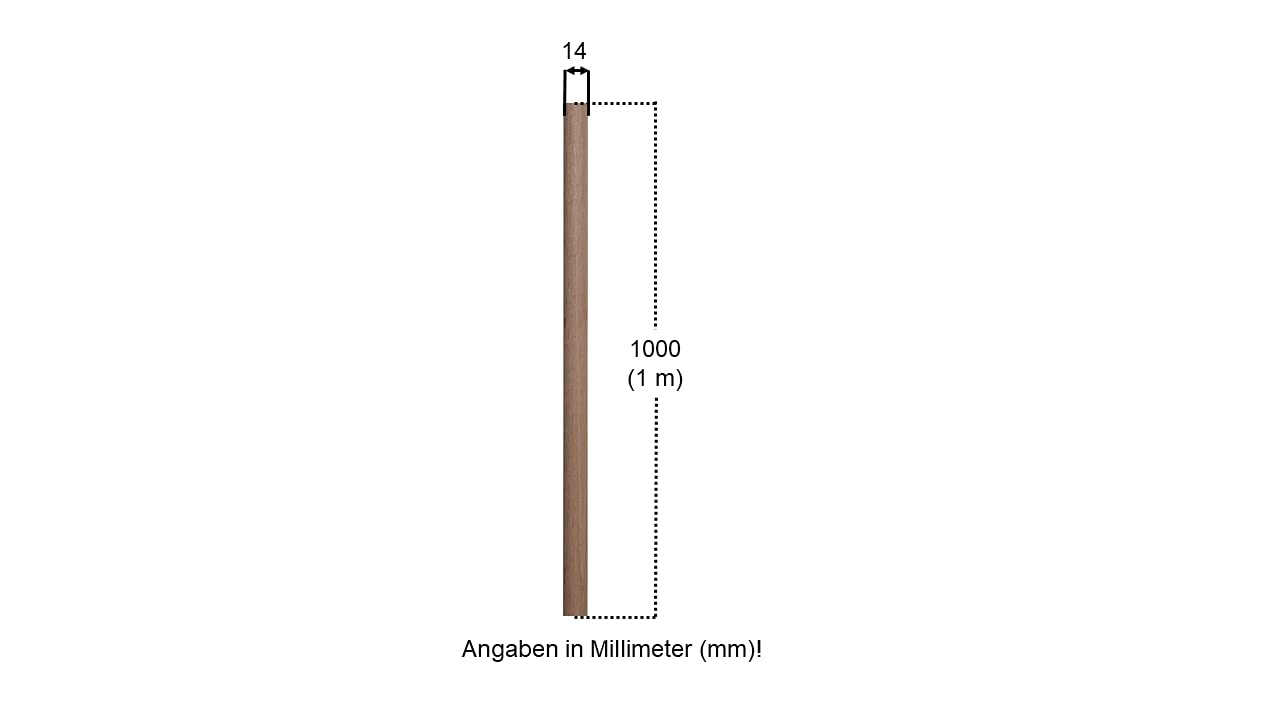(1m): (628, 369, 682, 391)
(mm)!: (700, 640, 761, 662)
1000: (632, 340, 680, 357)
14: (563, 42, 586, 59)
Angaben: (462, 640, 557, 662)
Millimeter: (592, 640, 692, 657)
in: (566, 640, 582, 657)
